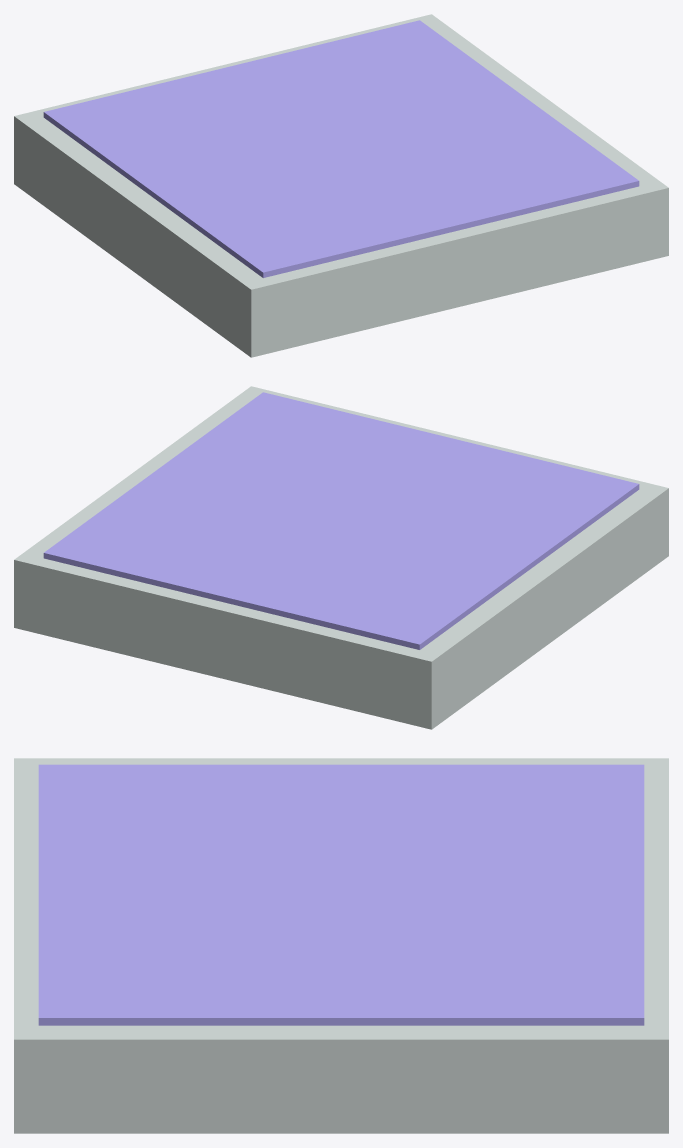
Rendered from plate.fbx.
3 renders of one model, top to bottom at view 1: azimuth 30°, elevation 25°; view 2: azimuth 150°, elevation 25°; view 3: azimuth 270°, elevation 25°, orthographic. The views are drawn at different scales.
Visible parts, largest first — view 1: Cube.001, Cube; view 2: Cube.001, Cube; view 3: Cube.001, Cube.
Boxes of the visible parts, x1,y1,x2,y2 form: Cube.001: [43, 20, 639, 277]; Cube: [14, 14, 668, 357]; Cube.001: [43, 392, 639, 649]; Cube: [14, 386, 668, 729]; Cube.001: [38, 764, 644, 1025]; Cube: [14, 758, 668, 1133].
Size of the model in its own units: 1286 by 216 by 1265.
